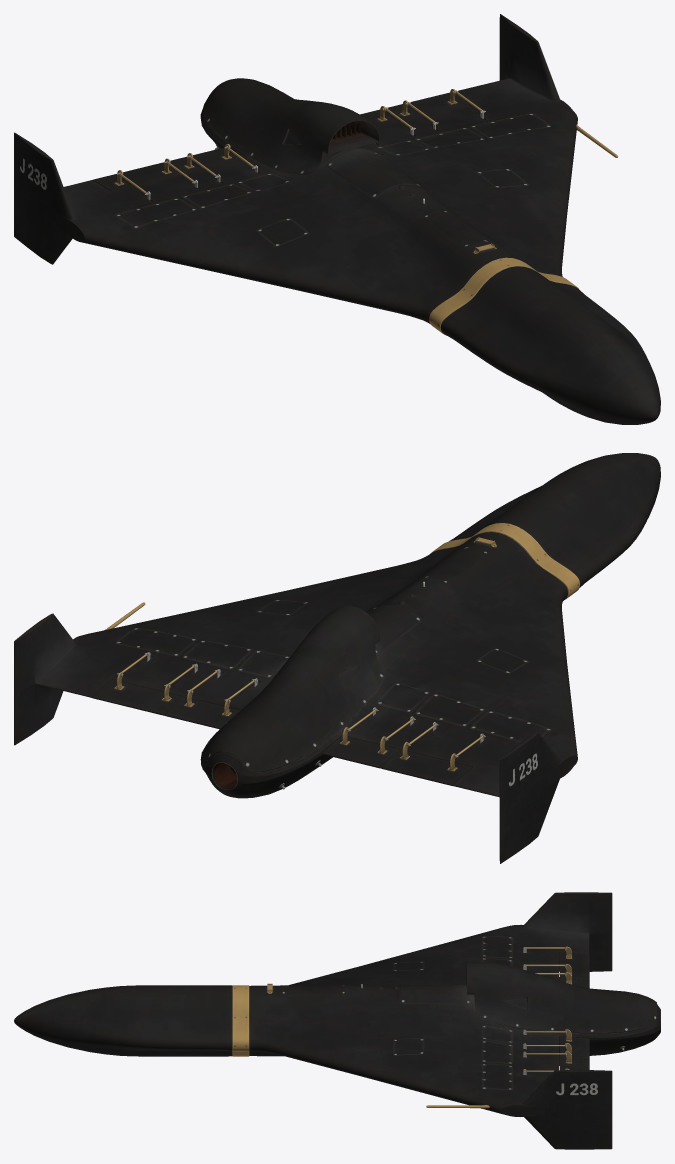
The model's file is shahed-238.glb.
The picture shows the model from 3 angles, top to bottom: view 1: azimuth 30°, elevation 25°; view 2: azimuth 150°, elevation 25°; view 3: azimuth 270°, elevation 25°; orthographic projection. The views are drawn at different scales.
Visible parts, largest first — view 1: Shahed_238_mt_shahed_238_0; view 2: Shahed_238_mt_shahed_238_0; view 3: Shahed_238_mt_shahed_238_0.
Boxes of the visible parts, bbox=[...] form: Shahed_238_mt_shahed_238_0: bbox=[14, 14, 660, 424]; Shahed_238_mt_shahed_238_0: bbox=[14, 453, 660, 863]; Shahed_238_mt_shahed_238_0: bbox=[14, 892, 660, 1149].
Size of the model in its own units: 2.5 by 0.6182 by 3.78.
1 material, 1 textured.
